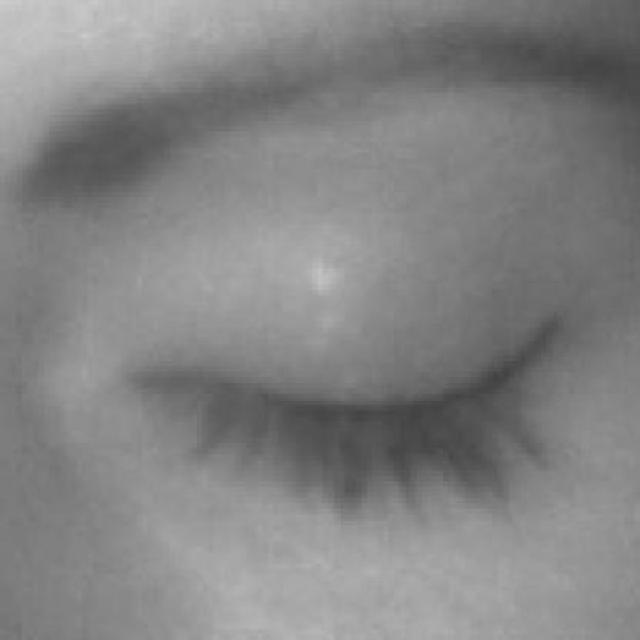drowsy: (134, 170, 566, 590)
